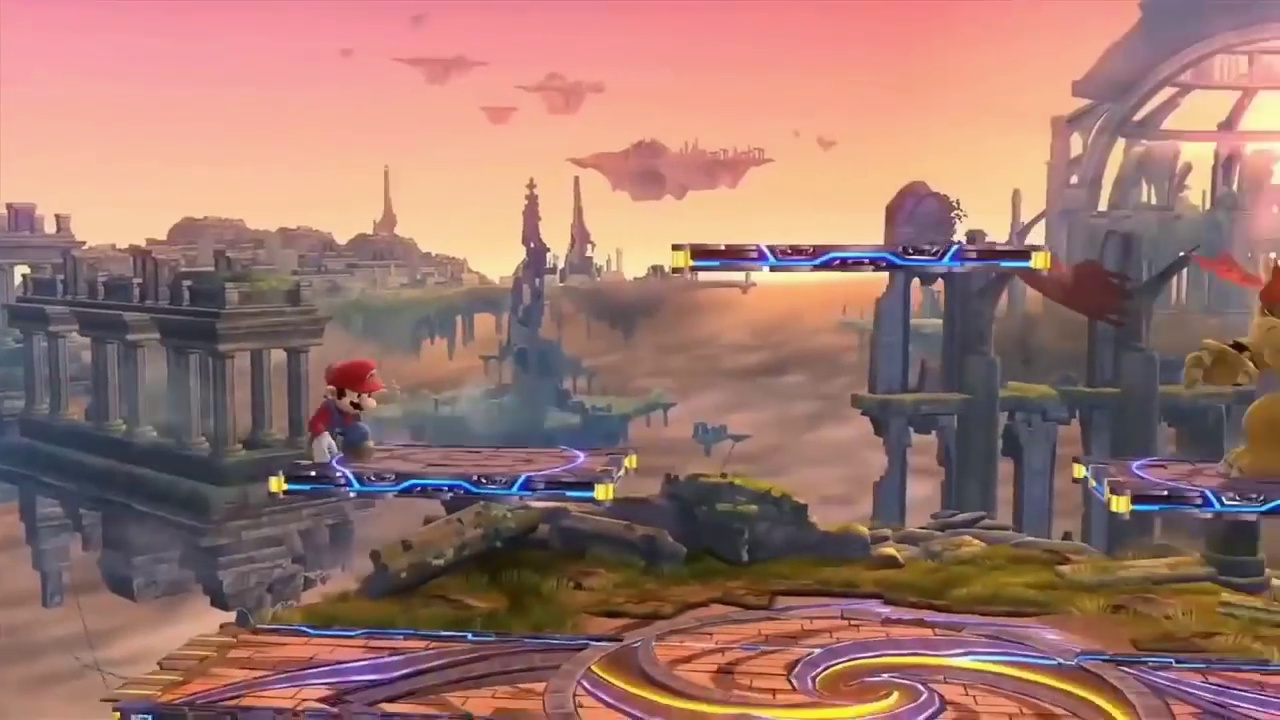Mario: (306, 362, 378, 460)
